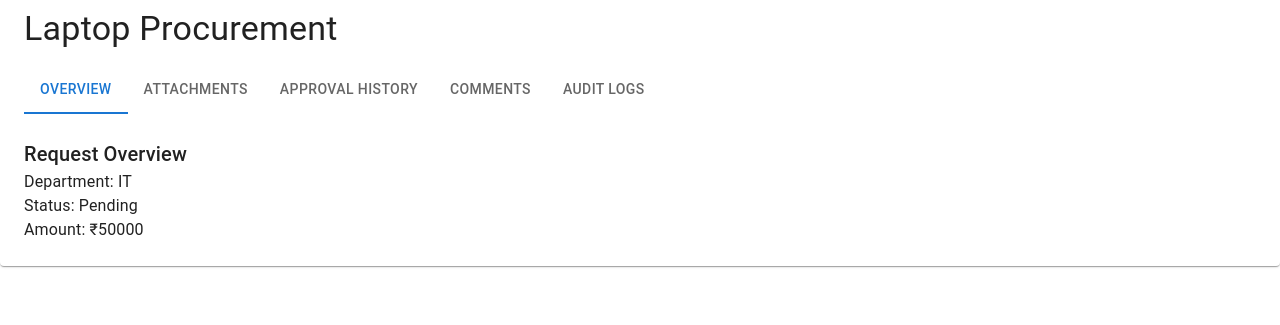
ProcurementDetailsPage › opens audit logs tab
This screenshot has width=1280, height=325.
Click the tab "Audit Logs": [604, 90] box left=547, top=66, right=661, bottom=114
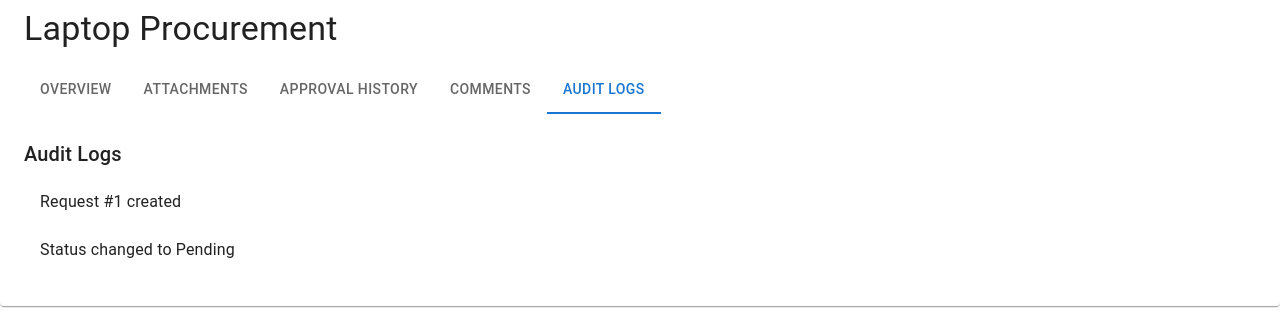
Check: the text "Request #1 created" is shown, box left=40, top=192, right=181, bottom=211
